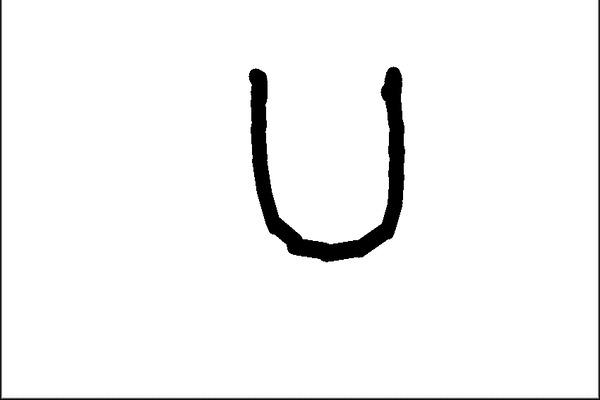U: (229, 58, 423, 265)
